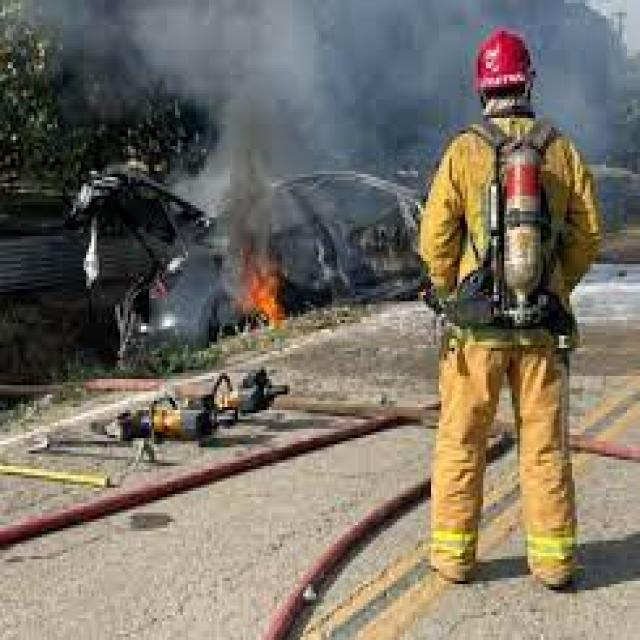fire: (240, 276, 290, 336)
smoke: (24, 6, 423, 193), (533, 3, 640, 165), (188, 190, 358, 270)
